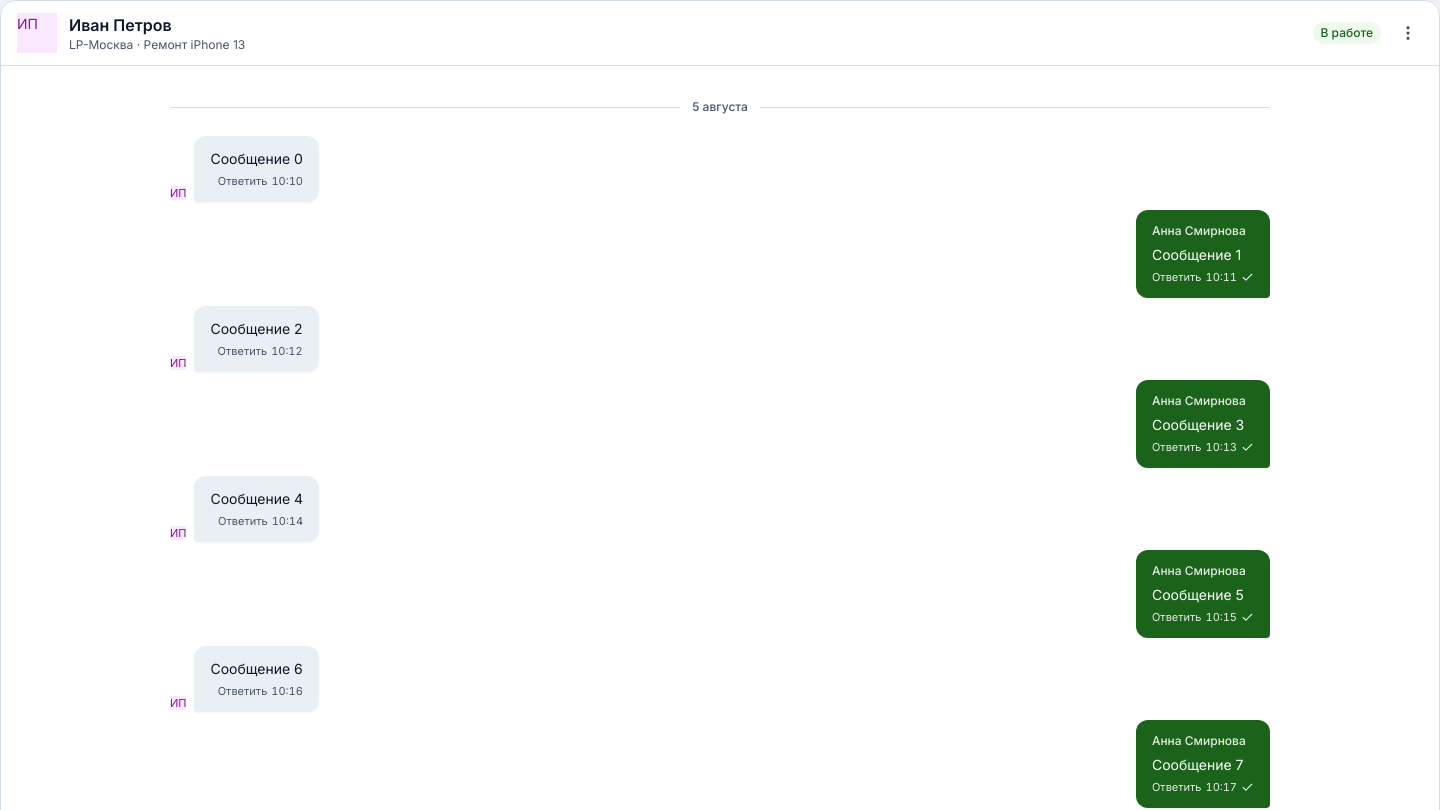
Test case: Открытие ленты › «Закрыть диалог» живёт в меню «…» и называет то же сочетание, что реестр клавиш
(page scrolled)
Expected: the button "Закрыть" is not shown
Click the button named "Действия с диалогом" at (1408, 33), box [1393,18,1423,48]
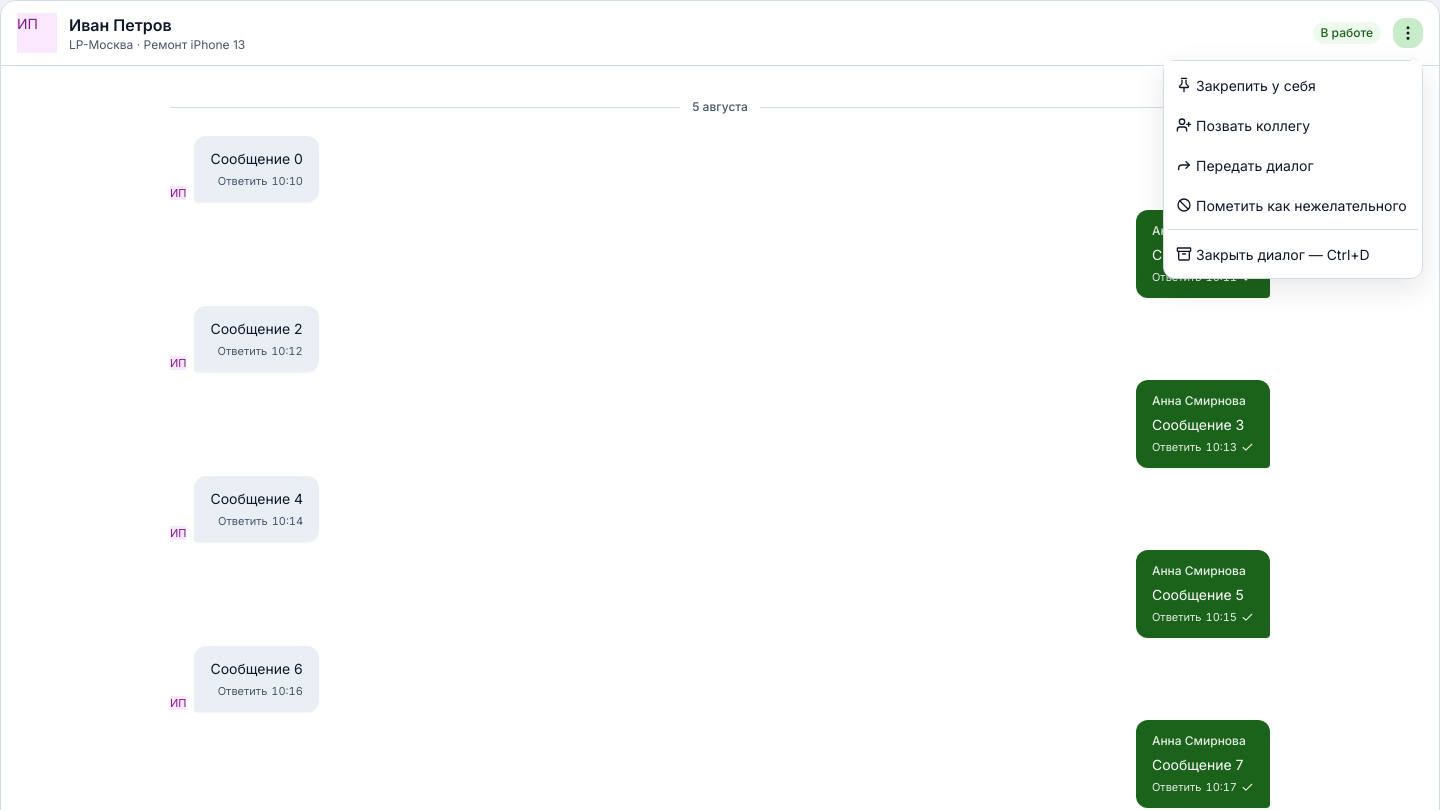
Expected: the menu item "Закрыть диалог — Ctrl+D" is shown, [1168,234,1418,274]
